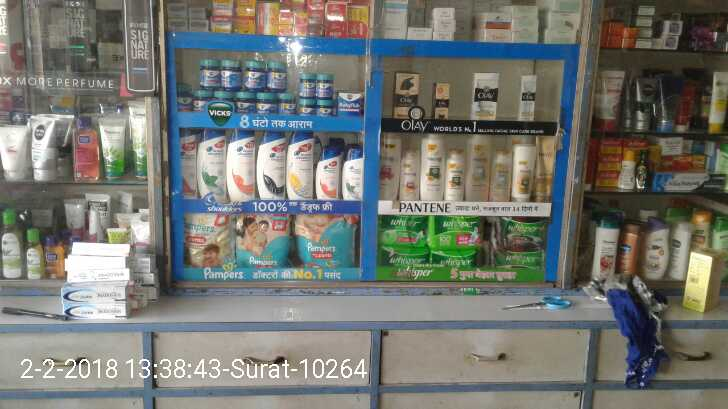beauty: (226, 128, 257, 199), (287, 130, 317, 197), (199, 129, 225, 202), (376, 133, 403, 202), (259, 132, 285, 200), (419, 133, 444, 201), (392, 70, 422, 119), (177, 130, 197, 199), (476, 71, 498, 125), (316, 146, 338, 199), (445, 142, 463, 201), (343, 146, 363, 199), (518, 74, 538, 125), (431, 81, 450, 120)
pharmacy: (174, 57, 363, 120), (181, 211, 240, 273), (485, 214, 548, 267), (297, 215, 359, 268), (236, 216, 287, 263), (426, 216, 484, 254), (375, 213, 428, 250)
